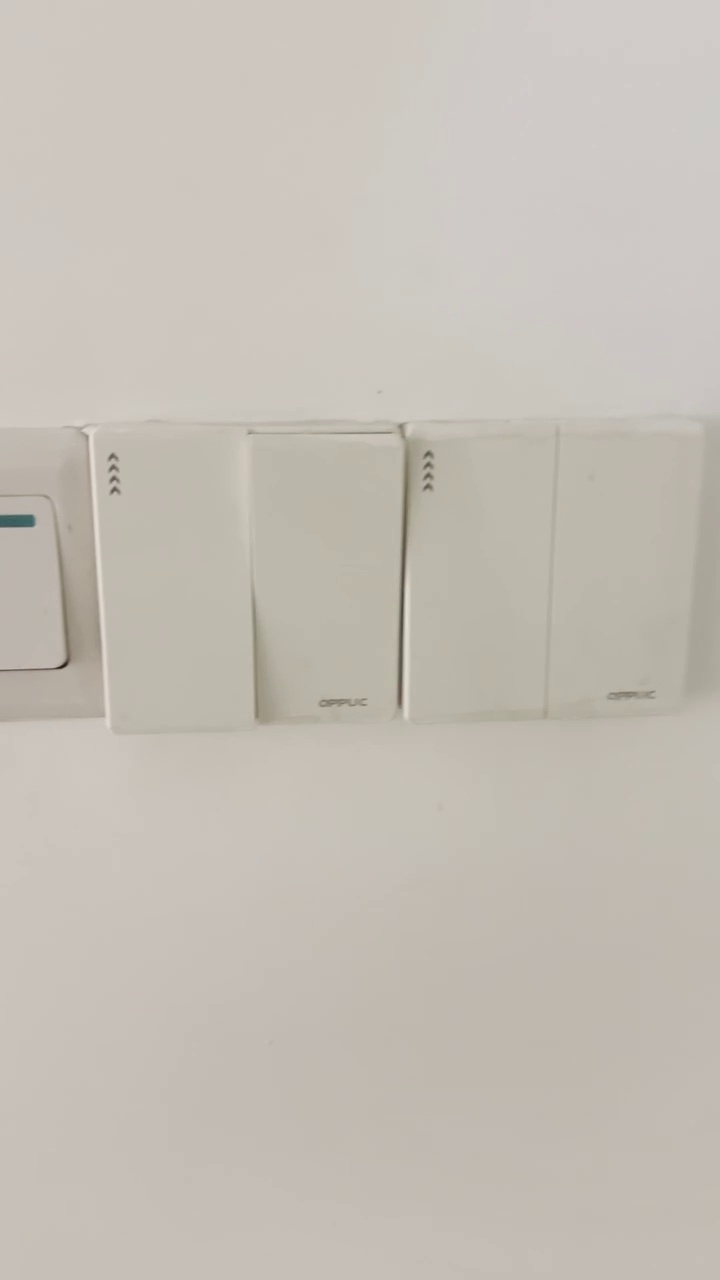button1: (89, 432, 255, 729), (251, 440, 399, 722), (554, 434, 694, 710), (413, 437, 551, 713)
